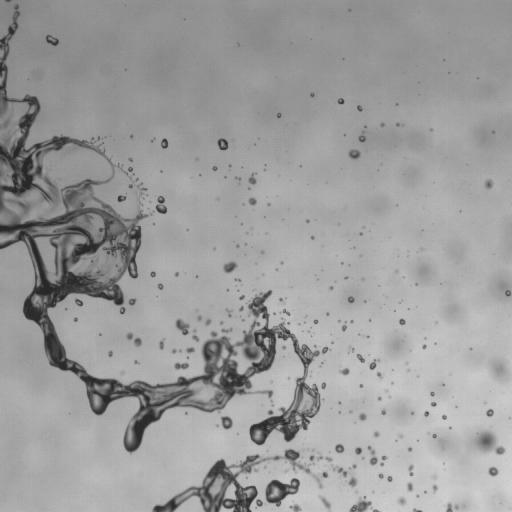droplet: (265, 478, 299, 506), (476, 430, 505, 454), (488, 357, 509, 381), (175, 318, 189, 334), (155, 196, 166, 213), (223, 261, 237, 273), (221, 416, 233, 429), (217, 138, 228, 150), (46, 35, 58, 45), (348, 149, 360, 159), (347, 476, 357, 487), (445, 503, 458, 511), (369, 359, 379, 369), (334, 444, 344, 453), (488, 467, 498, 476), (248, 173, 256, 184), (484, 179, 493, 188), (290, 504, 301, 511), (248, 197, 256, 205), (356, 354, 364, 362), (117, 195, 126, 202), (340, 368, 349, 375), (161, 138, 167, 148), (158, 339, 164, 349), (358, 134, 365, 142), (75, 298, 82, 306), (134, 338, 141, 346), (398, 497, 405, 505), (128, 298, 135, 305), (126, 332, 133, 339), (486, 409, 493, 416), (359, 413, 366, 420), (281, 309, 289, 315), (186, 347, 194, 353), (407, 482, 412, 491), (337, 98, 344, 104), (348, 296, 354, 303), (355, 447, 361, 454), (157, 283, 163, 289), (226, 309, 231, 316), (341, 323, 346, 330), (357, 105, 362, 111), (150, 271, 155, 277), (205, 319, 210, 325), (399, 319, 405, 324), (377, 372, 382, 378), (373, 432, 379, 437), (432, 485, 437, 491), (505, 290, 510, 295), (279, 298, 284, 303), (172, 348, 177, 353), (424, 411, 429, 416), (387, 476, 392, 481), (321, 382, 325, 388), (128, 167, 132, 172), (212, 166, 217, 170), (235, 278, 240, 282), (239, 295, 244, 299), (239, 306, 243, 311), (197, 315, 201, 320), (108, 351, 112, 356), (431, 402, 436, 406), (381, 409, 385, 414), (432, 434, 437, 438), (351, 464, 356, 468), (379, 473, 383, 478), (310, 93, 314, 97), (422, 344, 426, 348), (430, 392, 434, 396), (442, 415, 446, 419), (398, 434, 402, 438), (408, 447, 412, 451), (432, 475, 436, 479), (349, 346, 352, 351), (277, 113, 280, 117), (236, 177, 240, 180), (175, 272, 178, 276), (329, 286, 332, 290), (314, 319, 317, 323), (380, 123, 383, 126), (311, 236, 314, 239), (74, 318, 77, 321), (282, 346, 285, 349), (378, 397, 381, 400), (285, 469, 288, 472), (134, 361, 138, 363), (129, 158, 131, 161), (306, 220, 309, 222), (360, 384, 362, 387), (130, 135, 132, 137), (151, 139, 153, 141), (345, 277, 347, 279), (326, 313, 328, 315), (314, 345, 316, 347)
ligament: (0, 5, 329, 453), (152, 449, 349, 511), (349, 497, 380, 511), (255, 390, 273, 405), (319, 495, 331, 511), (367, 446, 377, 465), (174, 362, 189, 370), (192, 330, 199, 341), (129, 179, 137, 188), (380, 456, 387, 465), (408, 465, 413, 475), (412, 508, 421, 511), (128, 175, 131, 179), (6, 0, 10, 1)
